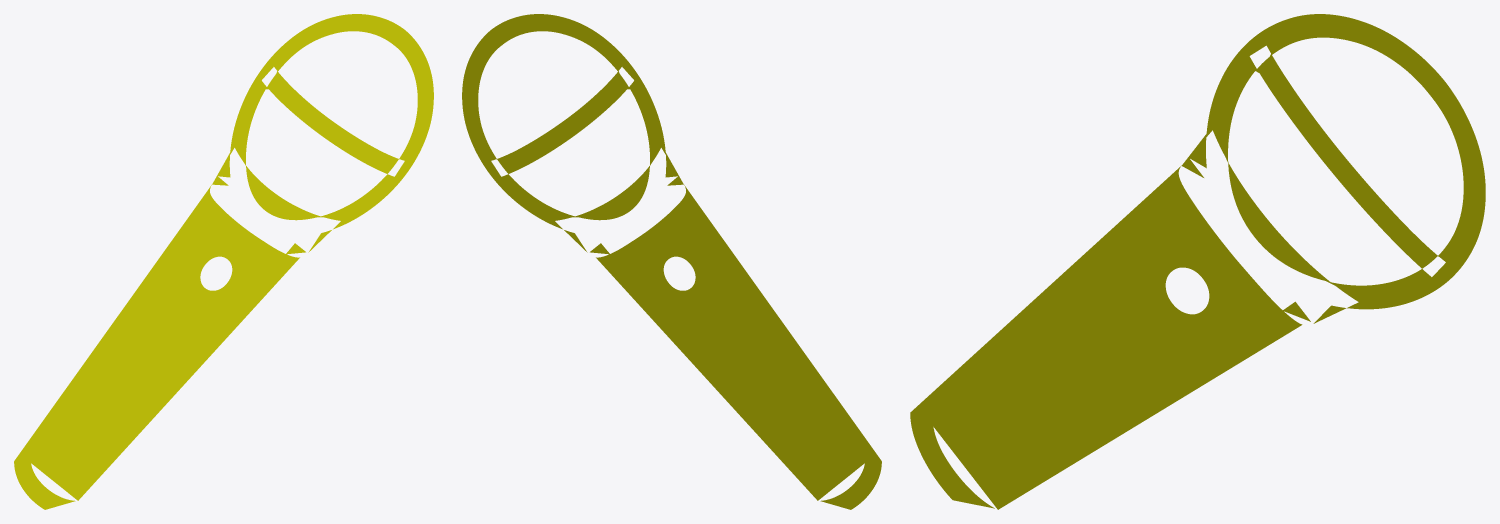
Rendered from microphone.glb.
The picture shows the model from 3 angles, left to right: view 1: azimuth 30°, elevation 25°; view 2: azimuth 150°, elevation 25°; view 3: azimuth 330°, elevation 25°; orthographic projection. The views are drawn at different scales.
Parts seen in each view (by area): view 1: Text.934_934; view 2: Text.934_934; view 3: Text.934_934.
Part boxes in pixels (x1=…): Text.934_934: x1=14, y1=14, x2=433, y2=509; Text.934_934: x1=462, y1=14, x2=881, y2=509; Text.934_934: x1=910, y1=14, x2=1485, y2=509.
Bounding box in the file's own units: 1.02 × 0.9772 × 3.46e-06.
